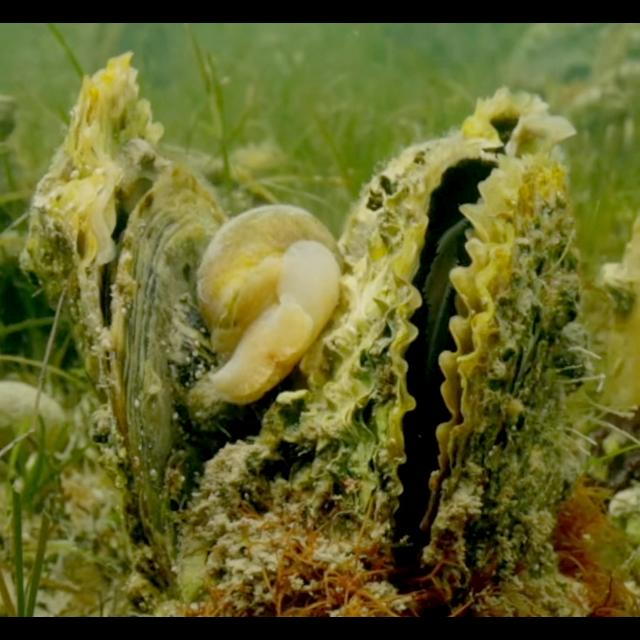Oyster-Open: (296, 86, 596, 600), (26, 46, 232, 594)
